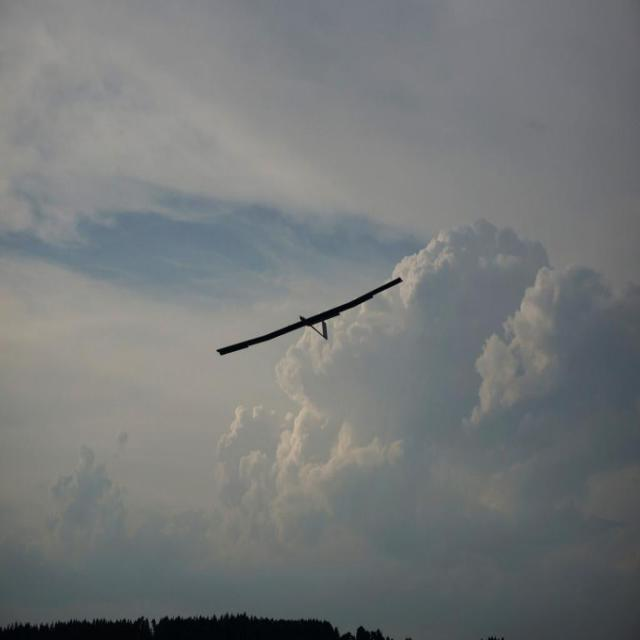UAV: (177, 272, 406, 398)
